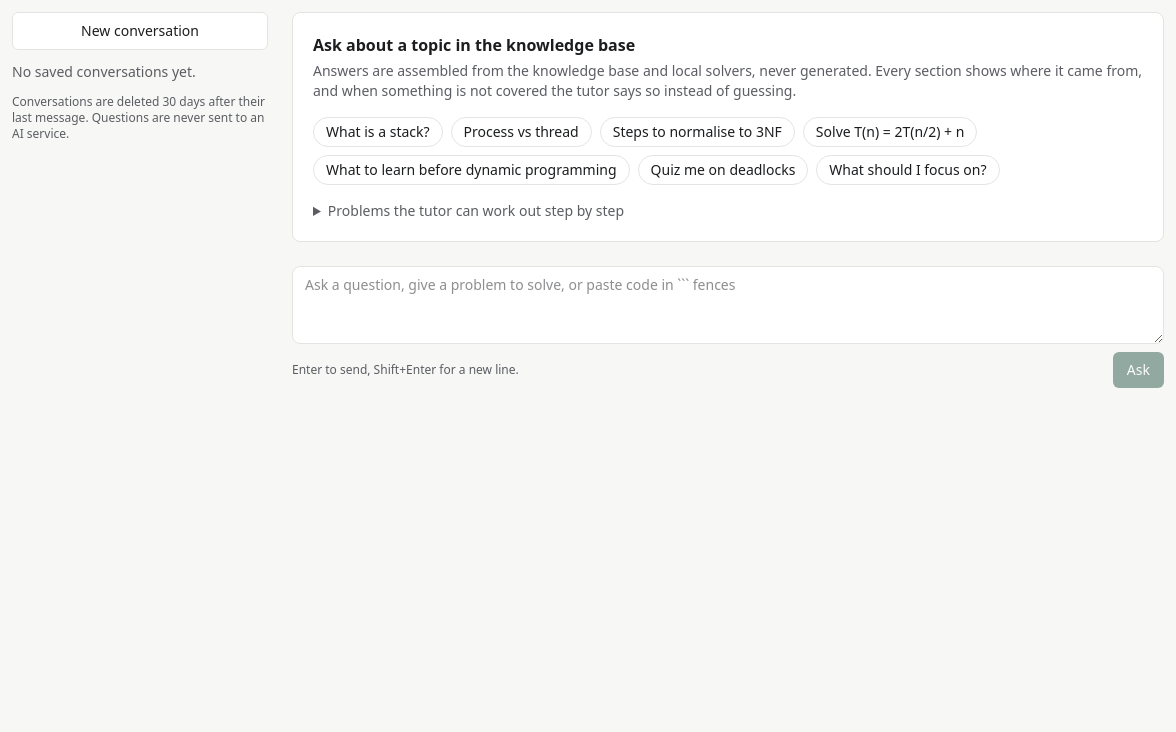
Test: TutorWorkspace › keeps the question and offers a retry when the request fails
Replace the text in the text box named "Your question" with "stack" at (728, 305), box top-left (292, 266), bottom-right (1164, 344)
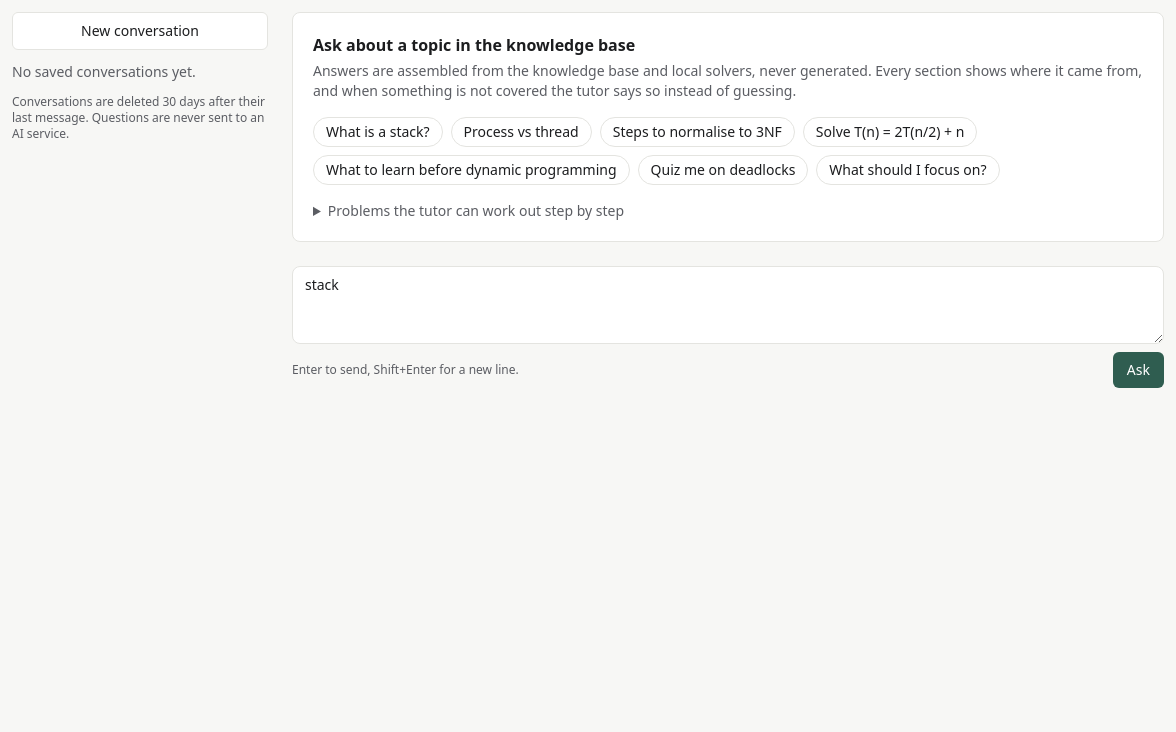
Click the button "Ask" at (1138, 370), box top-left (1113, 352), bottom-right (1164, 388)
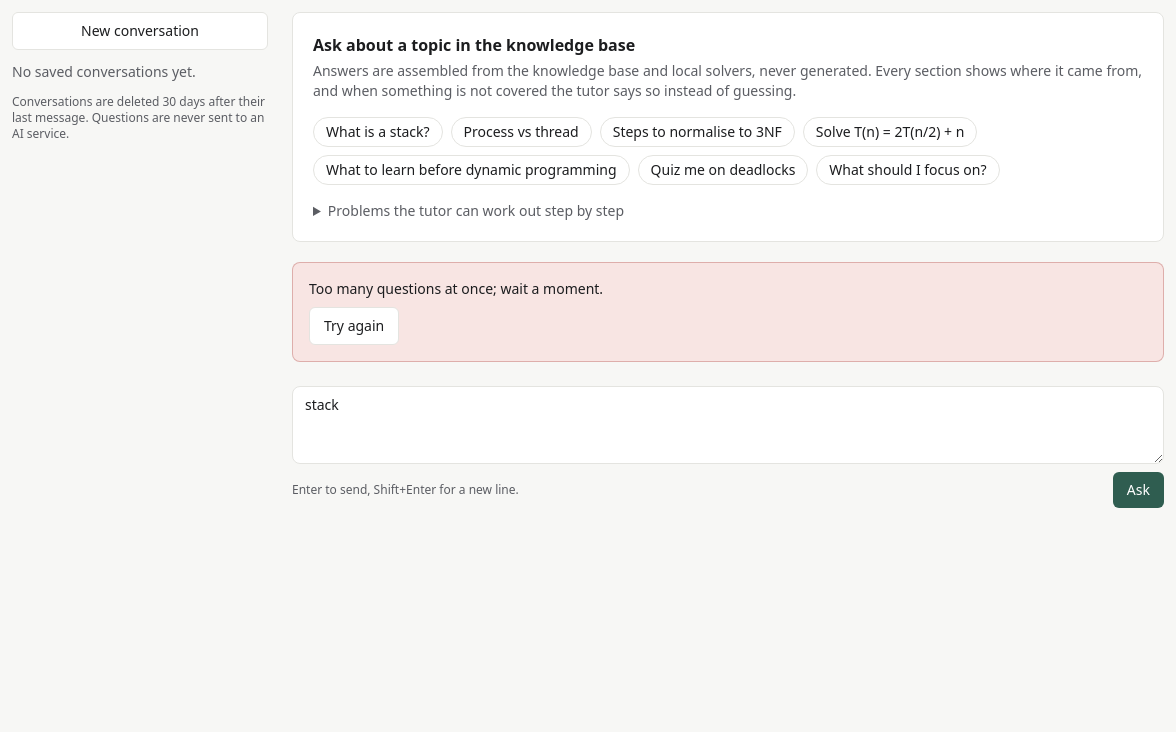
Check: the message shows "Too many questions", box top-left (309, 279), bottom-right (603, 298)
Check: the button "Try again" is shown, box top-left (309, 307), bottom-right (399, 345)
